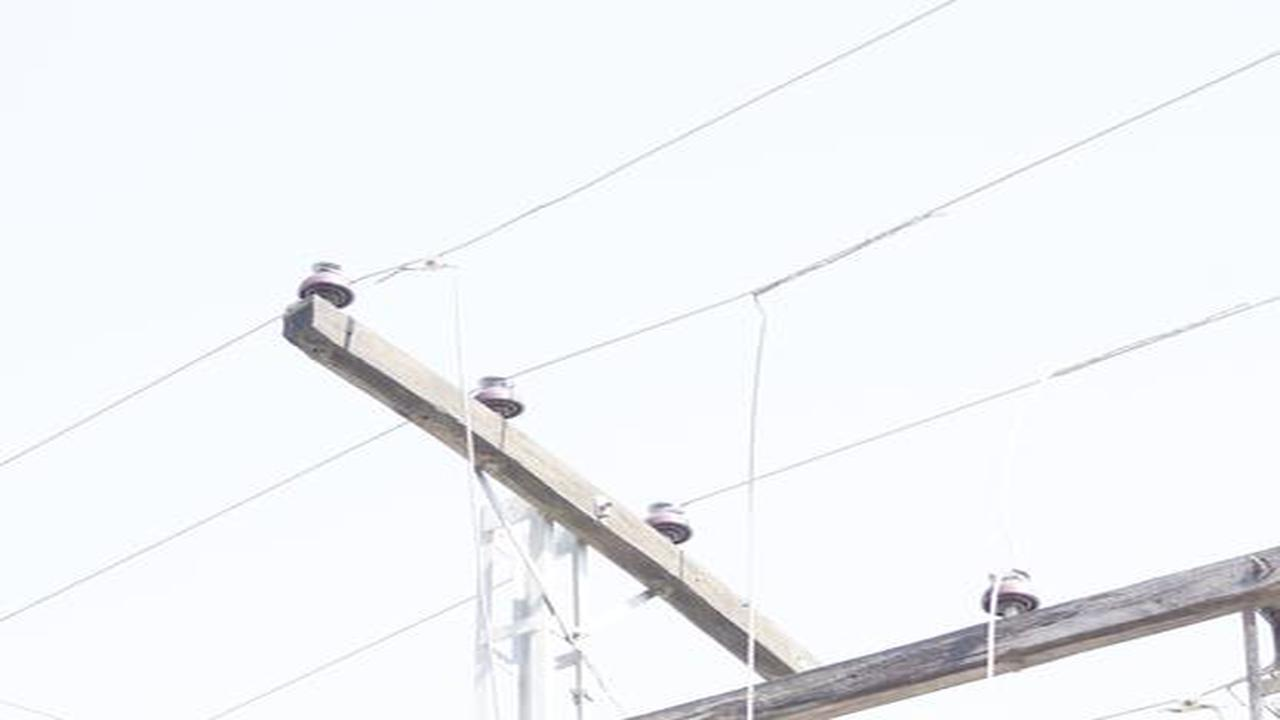insulator_pin: (296, 254, 356, 307), (979, 564, 1040, 616), (475, 373, 531, 421), (645, 496, 694, 548)
